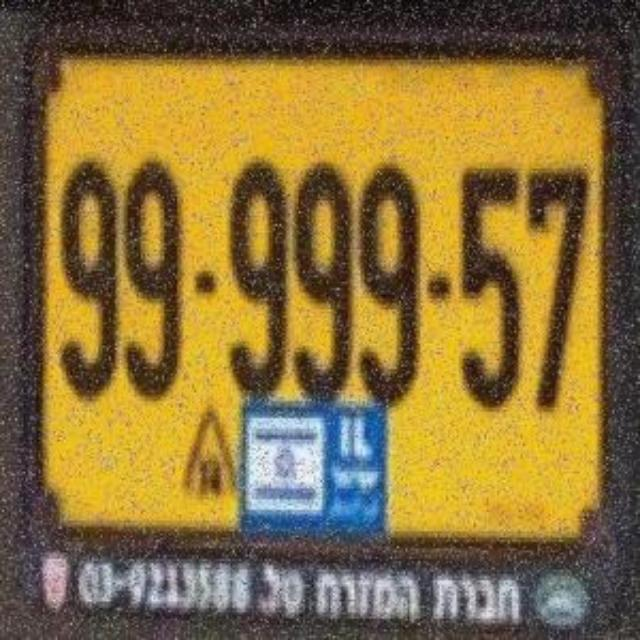License Plate: (15, 18, 633, 630)
